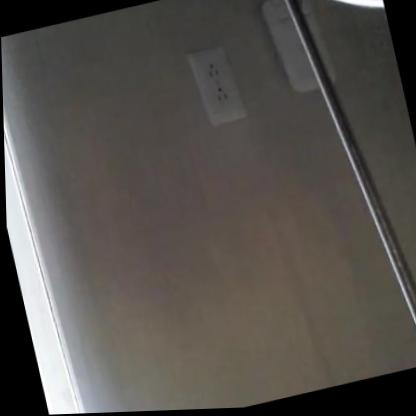OUTLET: (186, 41, 247, 129)
